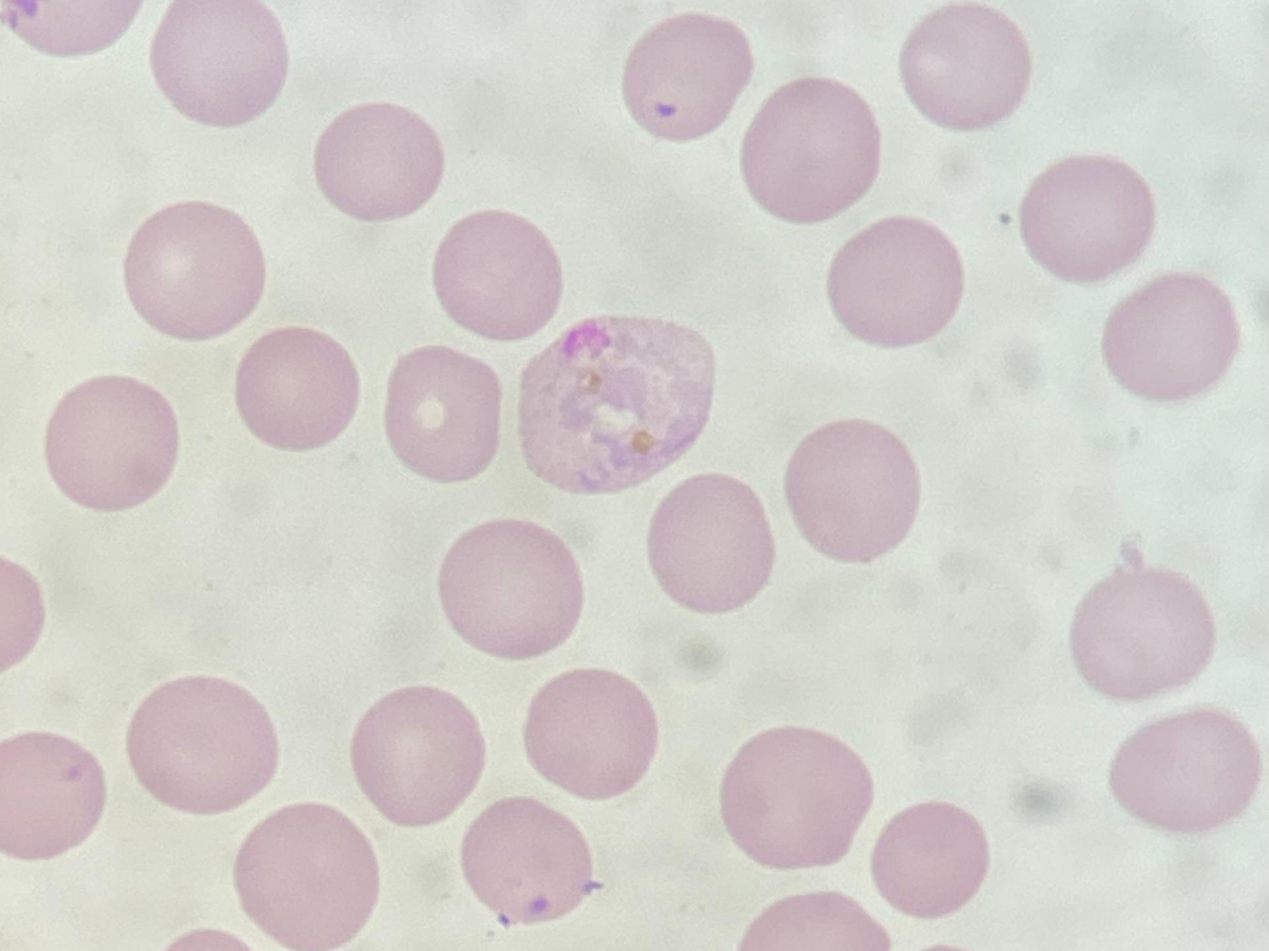Infected: (552, 450, 752, 636)
Uninfected: (397, 80, 550, 225), (990, 137, 1139, 278), (891, 4, 1036, 146), (686, 291, 830, 431), (51, 247, 202, 380), (1005, 610, 1146, 750), (3, 116, 160, 241), (392, 729, 527, 872), (349, 390, 488, 525), (610, 151, 751, 283), (302, 603, 444, 734), (785, 123, 917, 262), (26, 546, 169, 674), (1089, 437, 1223, 572), (116, 668, 255, 796), (496, 336, 623, 476), (985, 820, 1120, 951), (517, 805, 652, 933), (707, 608, 838, 735), (677, 28, 805, 156), (238, 821, 373, 942), (767, 468, 887, 604), (908, 500, 1036, 623), (823, 732, 956, 847), (279, 28, 399, 150), (1163, 91, 1269, 218)
